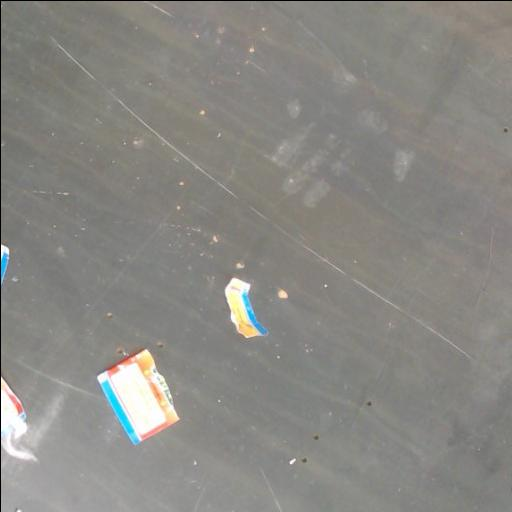conveyor belt: (1, 1, 512, 512)
packet: (97, 349, 178, 443), (1, 376, 35, 459), (225, 278, 266, 337)
